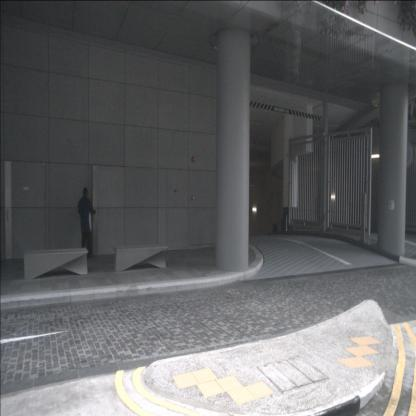human-pedestrian-adult: (78, 187, 96, 258)
